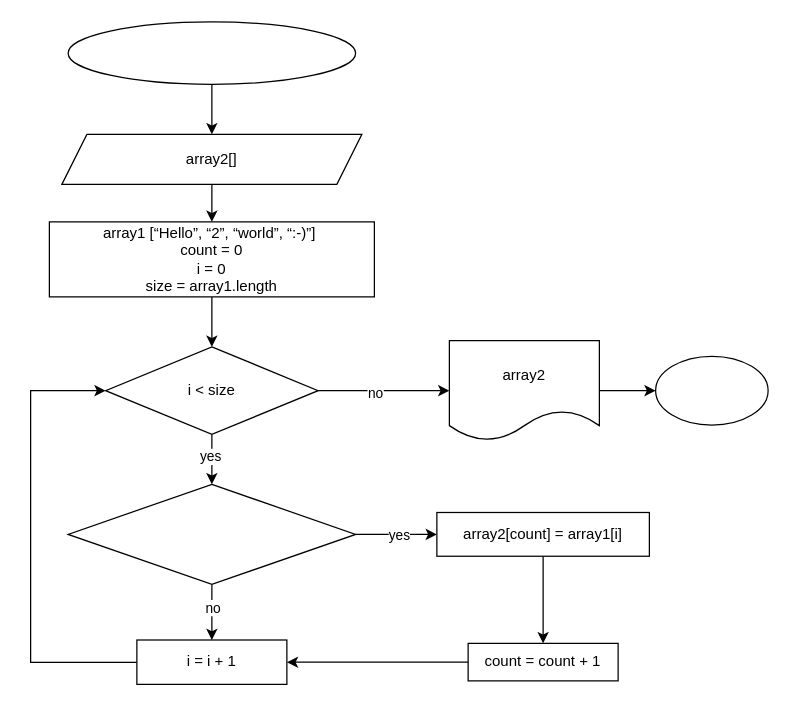
Image size: 790x706. Some labels were removed from this diagram. The shapes that lost their labels are listed below. From the top down, each one's centre as x and y in pixels, then its label:
the point at 211,52: Start
the point at 711,390: End
the point at 211,533: array1[i] <= 3
